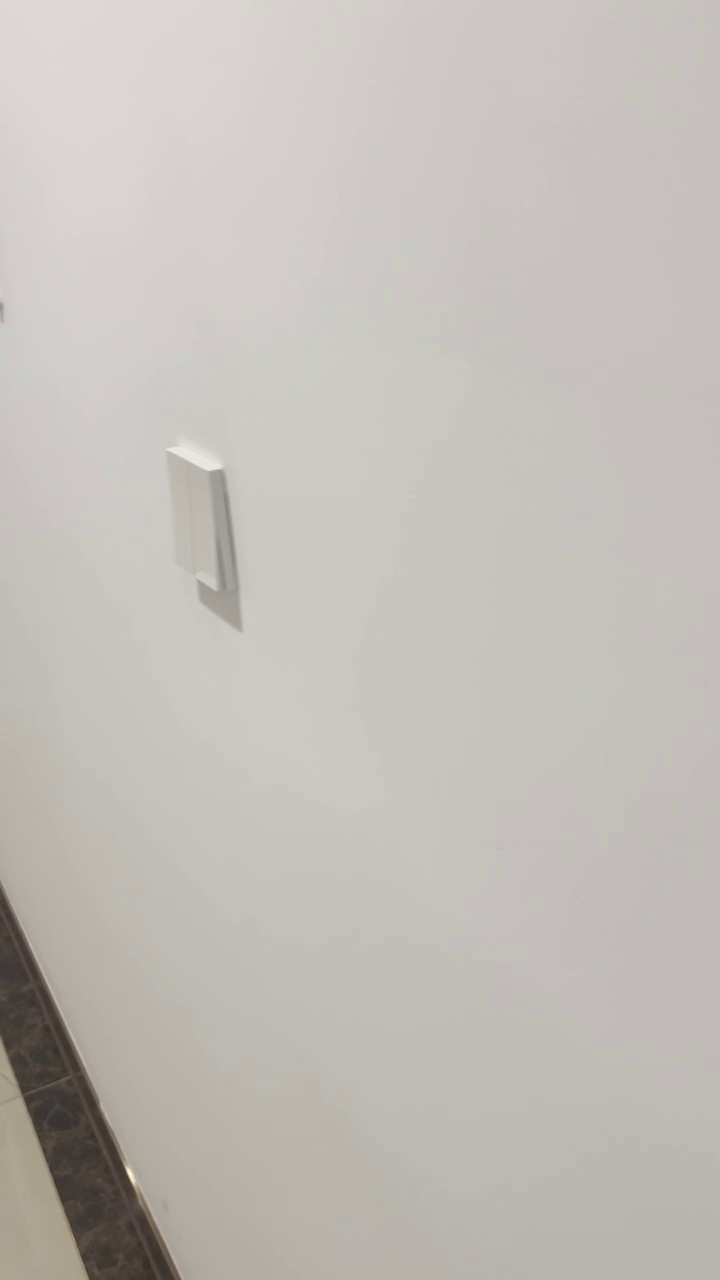button: (162, 440, 246, 598)
